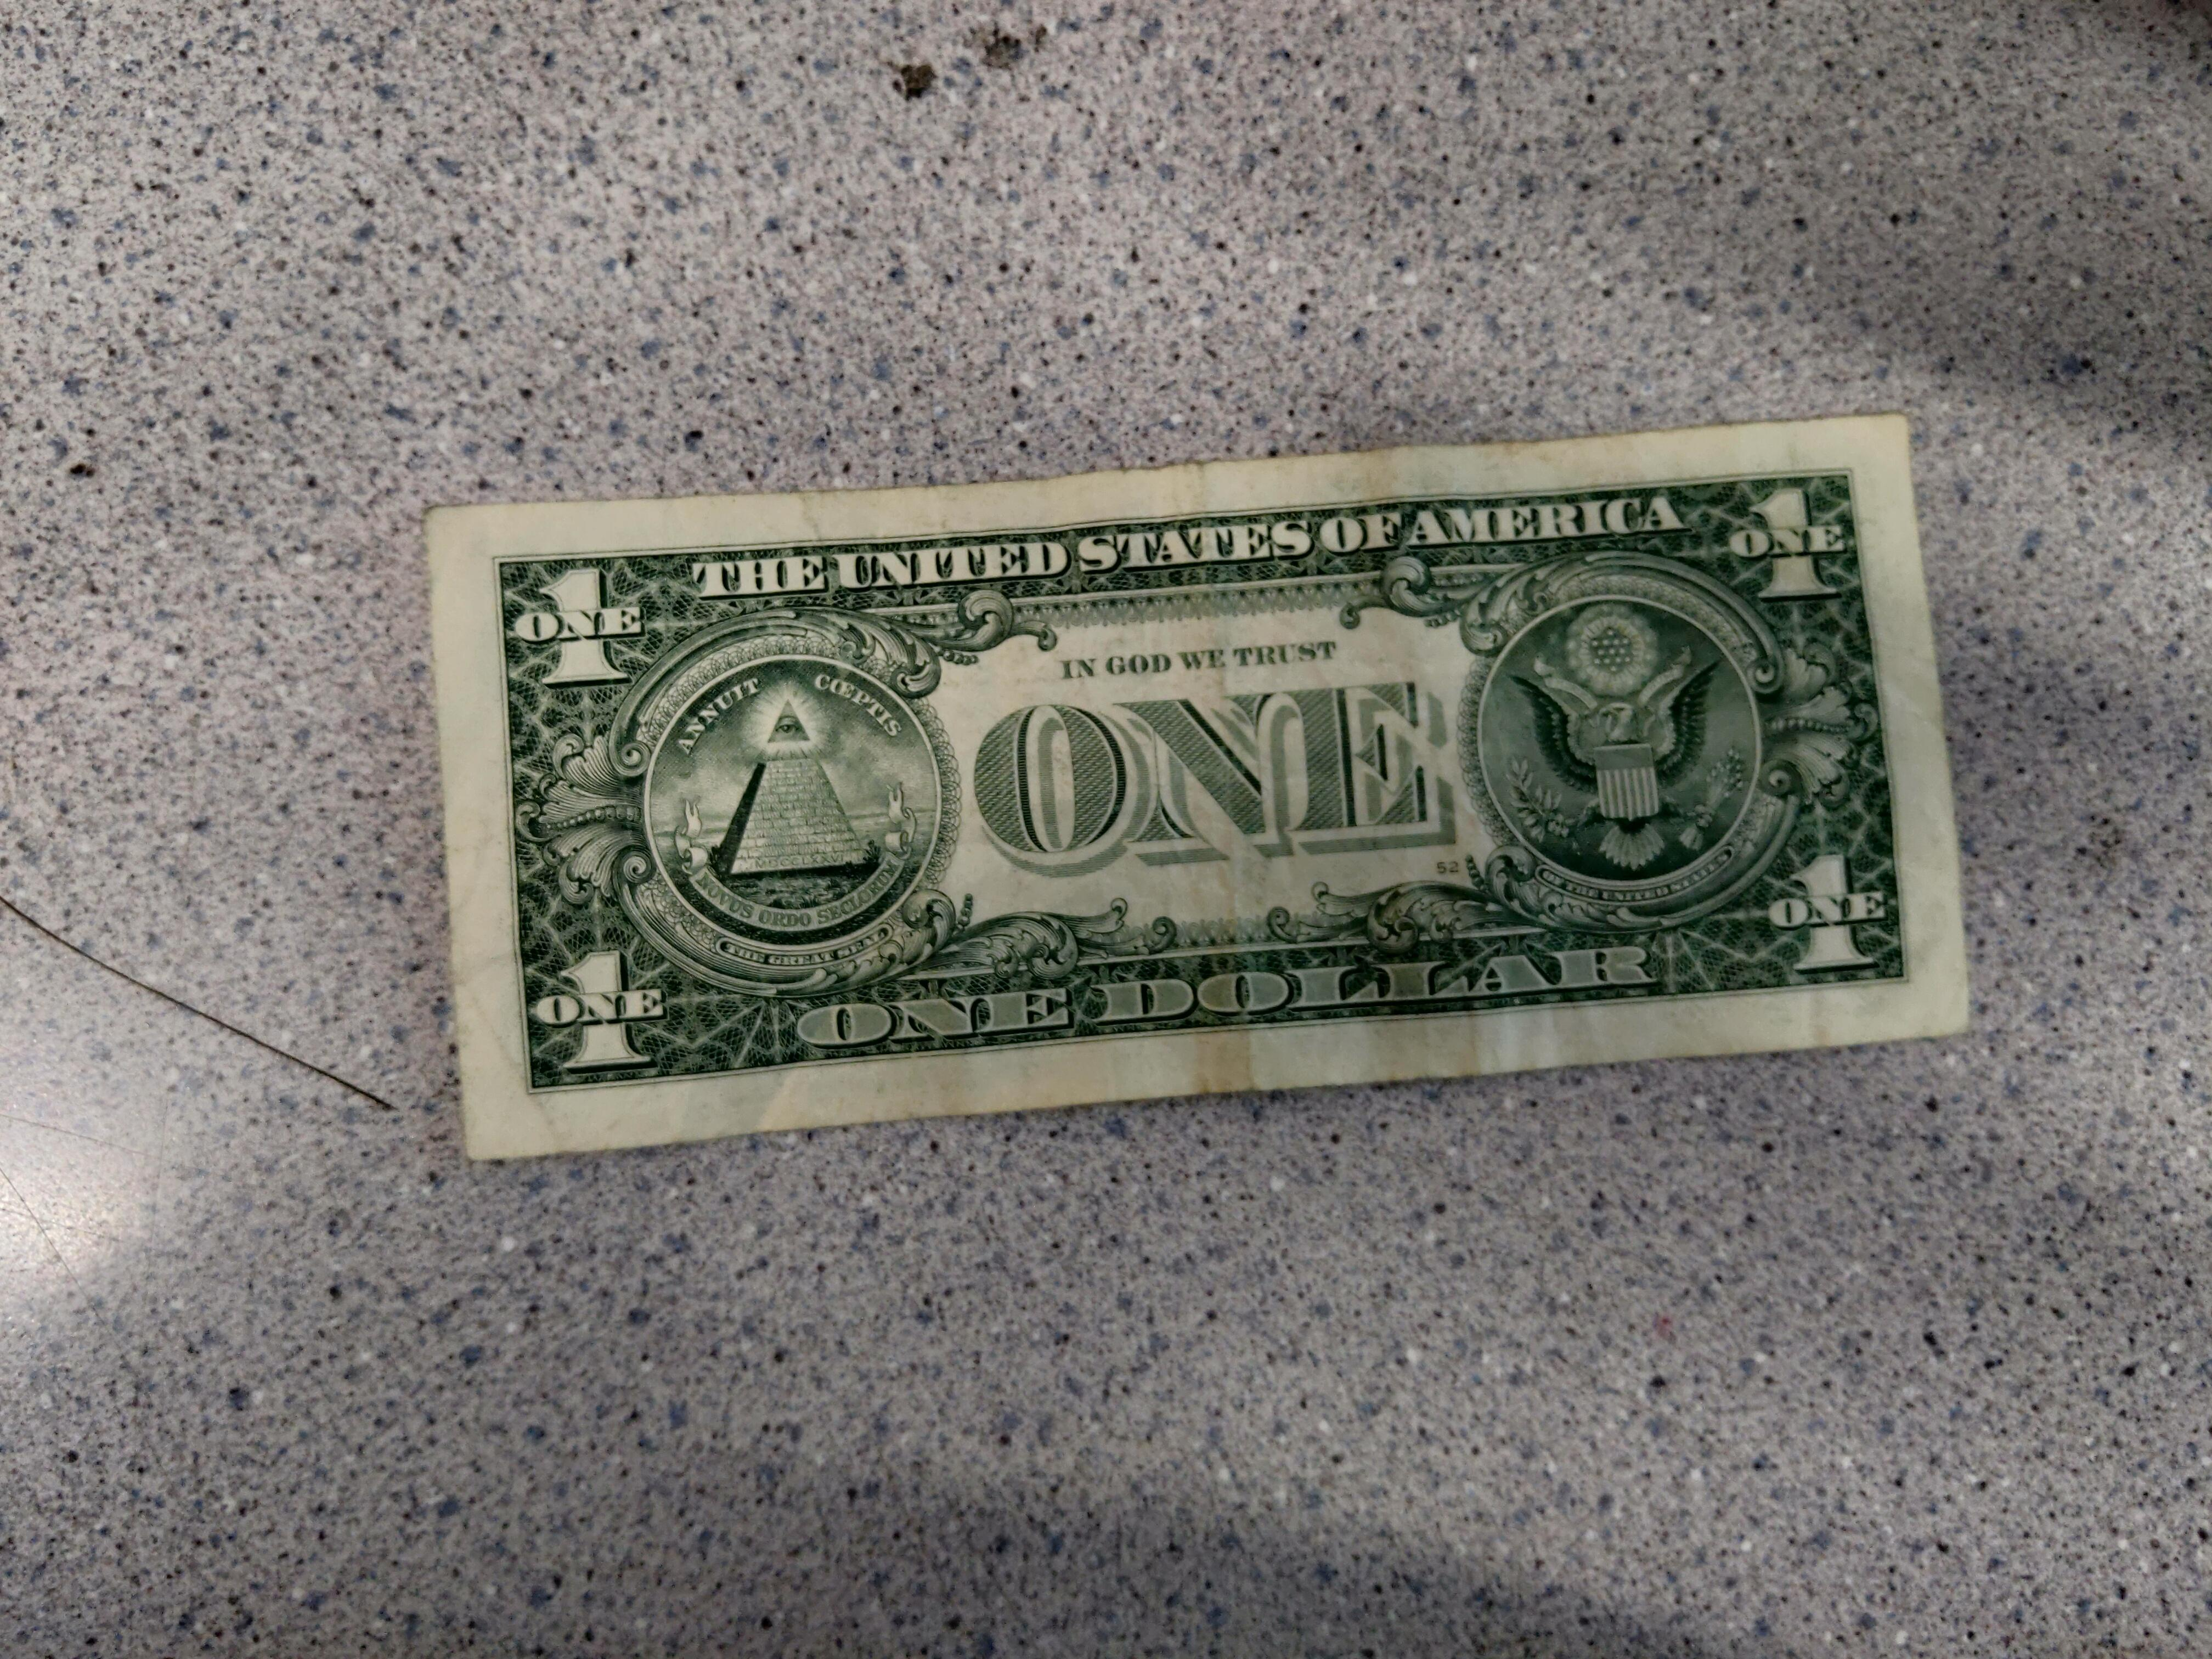OneBill: (421, 413, 1975, 1168)
